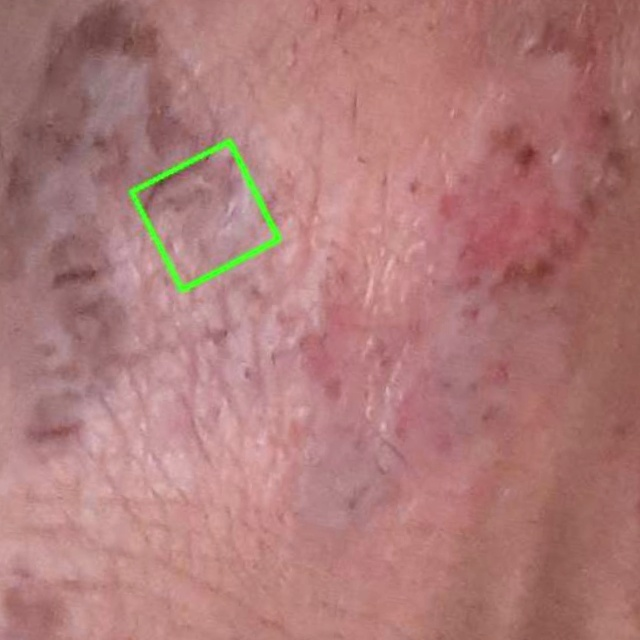Contact Dermatitis: (132, 140, 280, 288)
